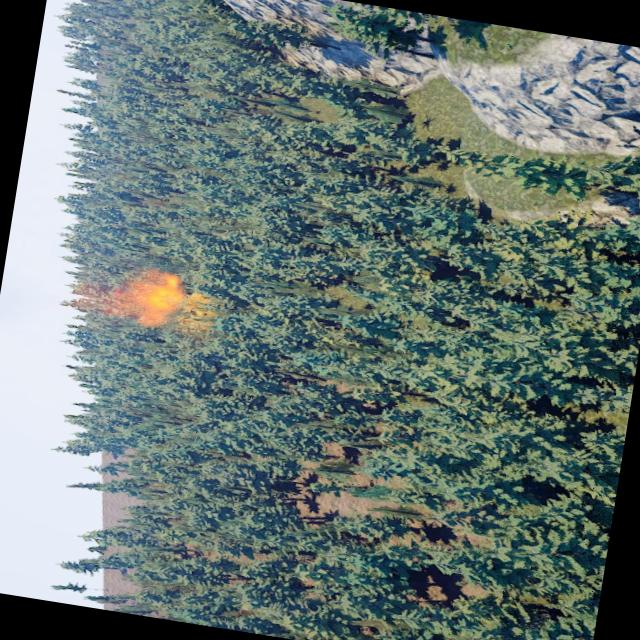smoke: (66, 260, 217, 336)
